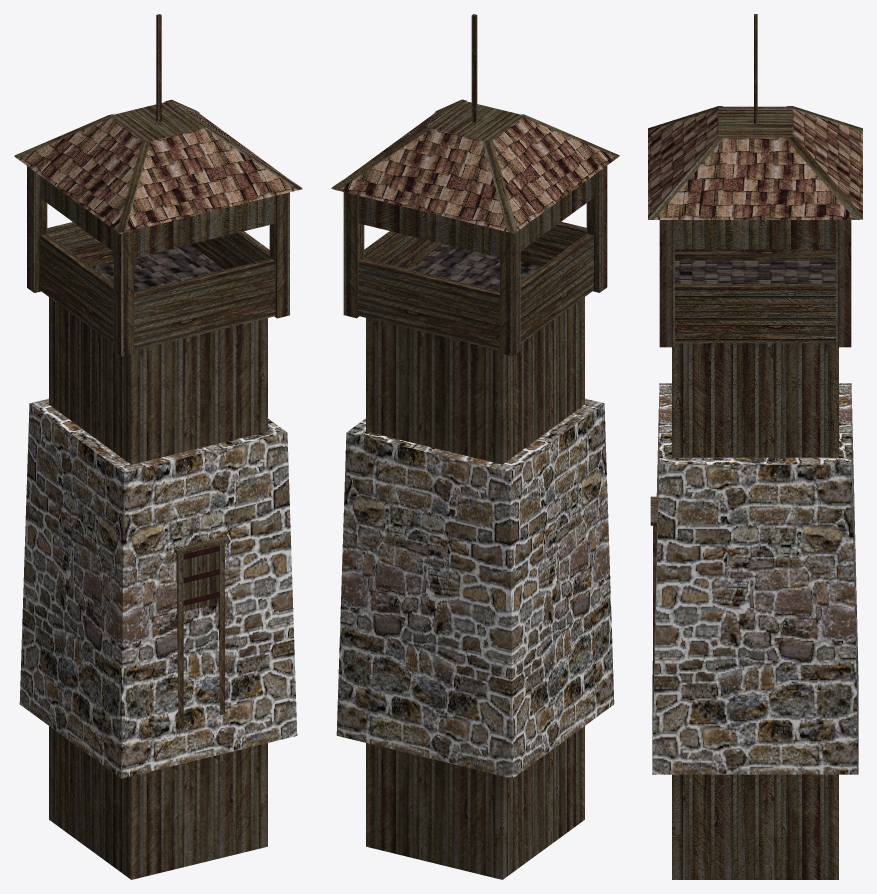
File: generic_outpost.dae
The picture shows the model from 3 angles, left to right: view 1: azimuth 30°, elevation 25°; view 2: azimuth 150°, elevation 25°; view 3: azimuth 270°, elevation 25°; orthographic projection.
Visible parts, largest first — view 1: Cube.005; view 2: Cube.005; view 3: Cube.005.
Boxes of the visible parts, bbox=[...] form: Cube.005: bbox=[14, 14, 302, 879]; Cube.005: bbox=[331, 14, 619, 879]; Cube.005: bbox=[648, 14, 862, 879].
Size of the model in its own units: 10.62 by 10.62 by 45.36.
